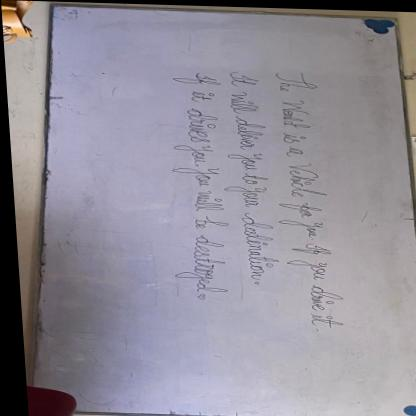Handwritten text: (269, 67, 343, 327), (153, 57, 229, 292), (218, 67, 278, 280)
